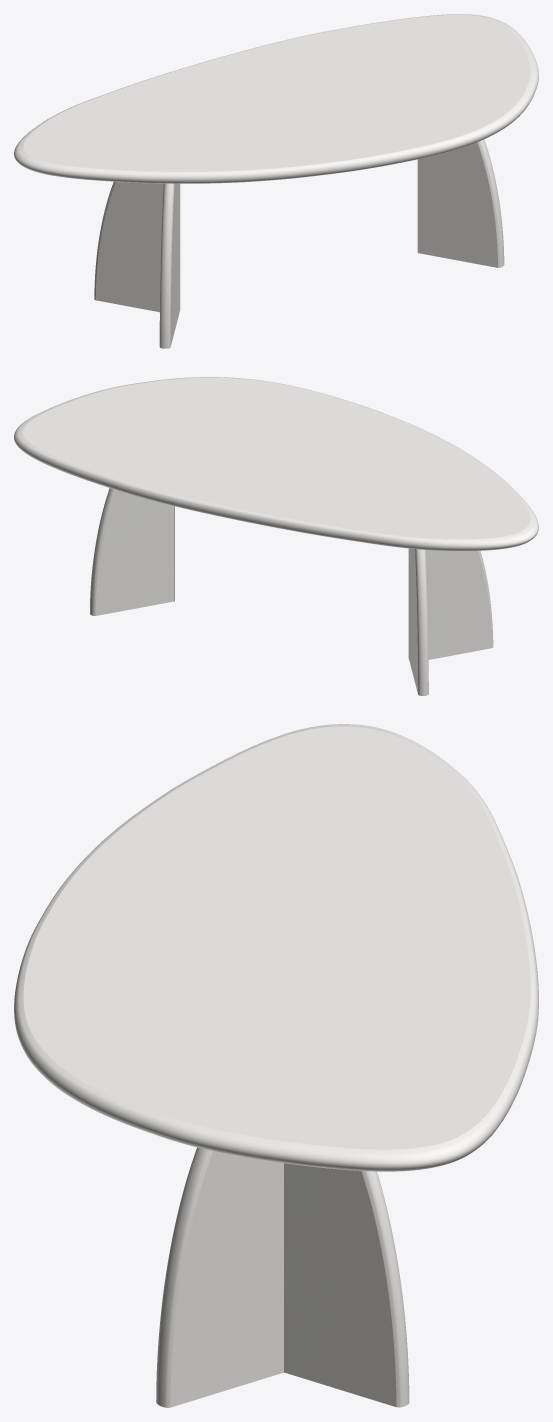
Rendered from purewhite_pebbletop_round_newtable2.glb.
The picture shows the model from 3 angles, top to bottom: view 1: azimuth 30°, elevation 25°; view 2: azimuth 150°, elevation 25°; view 3: azimuth 270°, elevation 25°; orthographic projection. The views are drawn at different scales.
Visible parts, largest first — view 1: round_pebbletop, newtable2_singleright2, newtable2_singleleft1, newtable2_singleright1; view 2: round_pebbletop, newtable2_singleleft2, newtable2_singleright1, newtable2_singleleft1; view 3: round_pebbletop, newtable2_singleright2, newtable2_singleleft2.
Part boxes in pixels (box(x1,y1,x2,y2)): round_pebbletop: box(14, 14, 538, 183); newtable2_singleright2: box(417, 139, 504, 267); newtable2_singleleft1: box(94, 181, 180, 312); newtable2_singleright1: box(159, 183, 179, 348); round_pebbletop: box(14, 377, 538, 550); newtable2_singleleft2: box(90, 488, 174, 615); newtable2_singleright1: box(408, 549, 493, 659); newtable2_singleleft1: box(409, 548, 428, 695); round_pebbletop: box(14, 724, 538, 1171); newtable2_singleright2: box(156, 1147, 283, 1407); newtable2_singleleft2: box(284, 1163, 409, 1407).
Size of the model in its own units: 7.5 by 2.5 by 3.8.
Materials: 1 (1 with a texture image).
